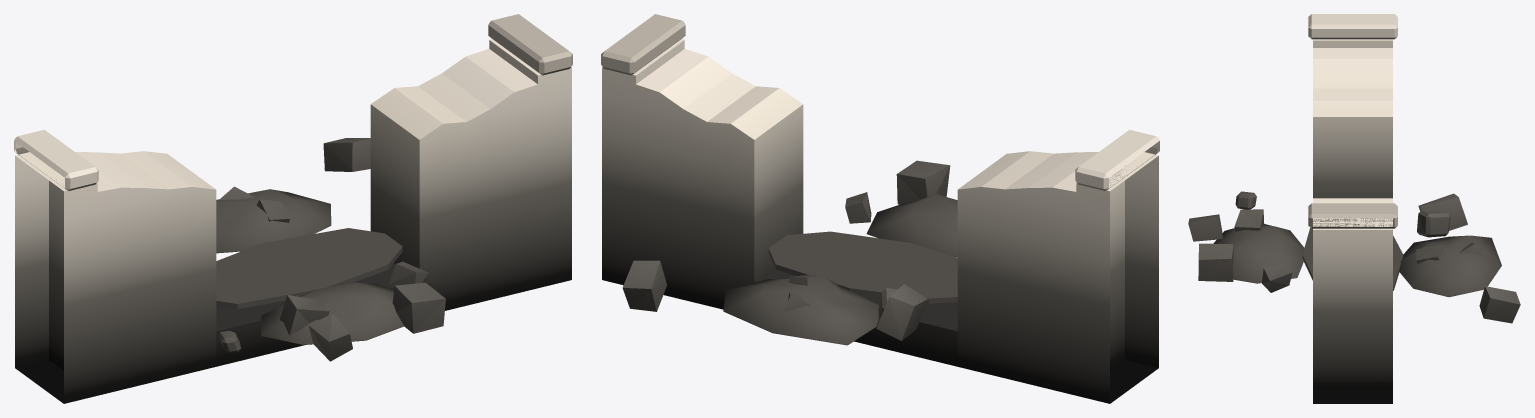
Rendered from SM_VKI_Wall_Ancient_Breach_300_Cut.fbx.
3 views of the same model, side by side, from view 1: azimuth 30°, elevation 25°; view 2: azimuth 150°, elevation 25°; view 3: azimuth 270°, elevation 25° (orthographic). The views are drawn at different scales.
Parts seen in each view (by area): view 1: SM_VKI_Wall_Ancient_Breach_300_Cut.001; view 2: SM_VKI_Wall_Ancient_Breach_300_Cut.001; view 3: SM_VKI_Wall_Ancient_Breach_300_Cut.001.
Part boxes in pixels (x1,y1,x2,y2): SM_VKI_Wall_Ancient_Breach_300_Cut.001: (14,14,572,403); SM_VKI_Wall_Ancient_Breach_300_Cut.001: (601,14,1159,403); SM_VKI_Wall_Ancient_Breach_300_Cut.001: (1188,14,1520,403).
Bounding box in the file's own units: 3 × 1.3 × 2.08.
